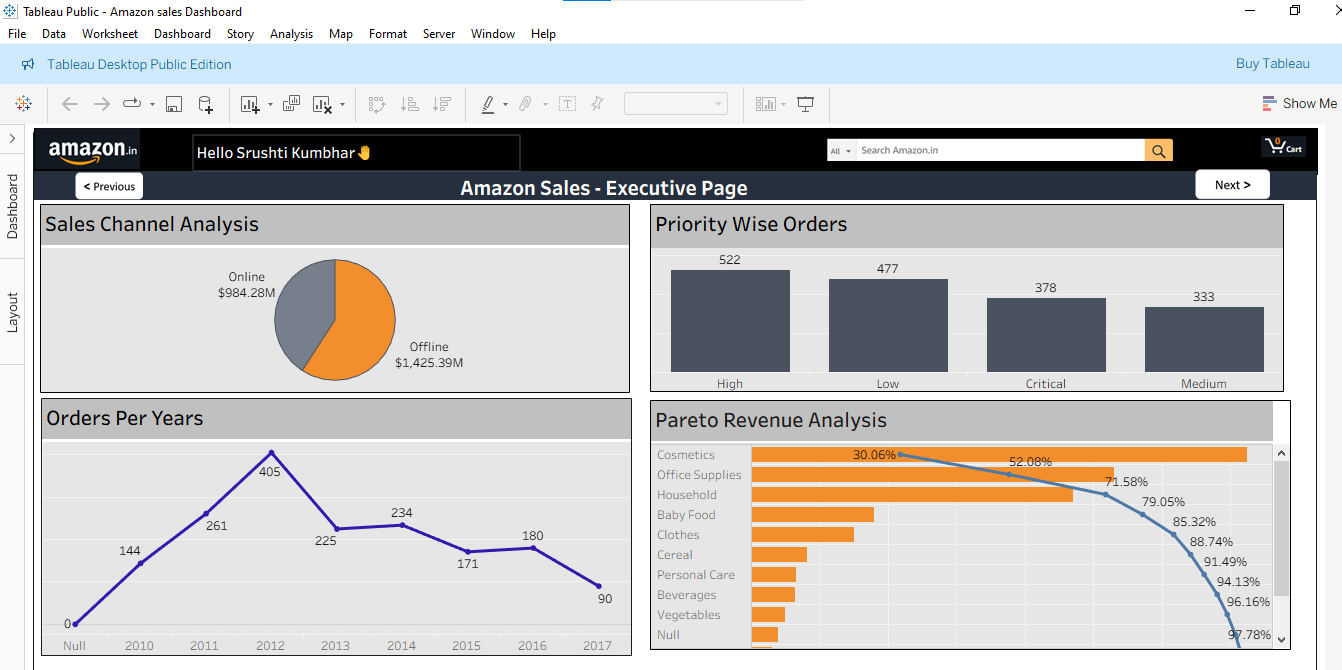

The dashboard page shown, as its layout file describes it:
{"tool":"tableau","page":{"name":"Executive Page","canvas":[1000,1000],"units":"permille","ordinal":1},"visuals":[{"type":"blank","box":[6.9,5,987.9,67.5]},{"type":"image","param":"C:/Users/admin/Downloads/Amazon logo.png","box":[7.9,5,141.2,58.8]},{"type":"text","box":[129.9,17.5,250.2,47.5]},{"type":"image","param":"C:/Users/admin/Pictures/amazon cart logo.png","box":[950.3,17.5,37.5,51.2]},{"type":"image","param":"C:/Users/admin/Downloads/search amazon logo.png","box":[617.3,20,319.1,32.5]},{"type":"dashboard-object","box":[869,64.3,119,47.1]},{"type":"blank","box":[6.9,67.5,987,41.2]},{"type":"dashboard-object","box":[17.6,68.8,94.8,42.5]},{"type":"text","box":[294.7,70,301.7,38.8]},{"type":"worksheet","title":"Sales Channel Analysis","mark":"Pie","box":[11.4,114.3,453.9,270]},{"type":"worksheet","title":"Priority Wise Orders","mark":"Automatic","rows":["Calculation_752382669468770305"],"cols":["Order Priority"],"box":[481,114.3,488,268.6]},{"type":"image","param":"C:/Users/admin/AppData/Local/Temp/TableauTemp/1xeyky40ff1qva1d7s40w0iffvp9/Sheet","box":[219.5,128.8,158.9,96.2]},{"type":"image","param":"C:/Users/admin/AppData/Local/Temp/TableauTemp/1xeyky40ff1qva1d7s40w0iffvp9/Sheet","box":[635.6,130,144.9,92.5]},{"type":"worksheet","title":"Orders Per Years","mark":"Automatic","rows":["Calculation_752382669468770305"],"cols":["Ship Date"],"box":[12.3,391.4,454.8,368.6]},{"type":"worksheet","title":"Pareto Revenue Analysis","mark":"Automatic","rows":["Item Type"],"cols":["Total Revenue","Calculation_750130870436065280"],"box":[481,394.3,493,357.1]}]}

Visuals, with their boxes on the dashboard's canvas, which has no fixed pixel size, in thousandths of its width and height (x1, y1, x2, y2). These are canvas units, not pixel positions in the 1342x670 screenshot, which may show the page scaled, cropped or inside an application window:
blank: [7, 5, 995, 72]
image: [8, 5, 149, 64]
text: [130, 18, 380, 65]
image: [950, 18, 988, 69]
image: [617, 20, 936, 52]
dashboard-object: [869, 64, 988, 111]
blank: [7, 68, 994, 109]
dashboard-object: [18, 69, 112, 111]
text: [295, 70, 596, 109]
"Sales Channel Analysis" worksheet (Pie marks): [11, 114, 465, 384]
"Priority Wise Orders" worksheet: [481, 114, 969, 383]
image: [220, 129, 378, 225]
image: [636, 130, 780, 222]
"Orders Per Years" worksheet: [12, 391, 467, 760]
"Pareto Revenue Analysis" worksheet: [481, 394, 974, 751]
